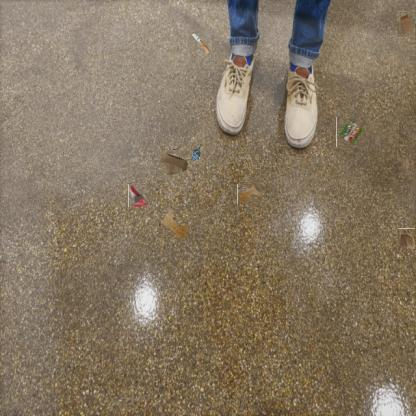dirty: (158, 148, 188, 178), (336, 118, 365, 147), (188, 29, 212, 53), (397, 11, 415, 37), (128, 183, 147, 207), (397, 228, 415, 249), (190, 144, 206, 165)
liquid: (160, 207, 192, 238), (239, 183, 261, 206)
